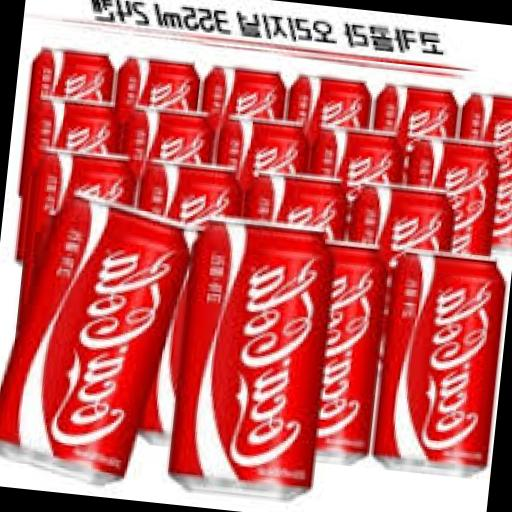Coca: (0, 187, 199, 496), (163, 212, 340, 508), (368, 244, 511, 480)
